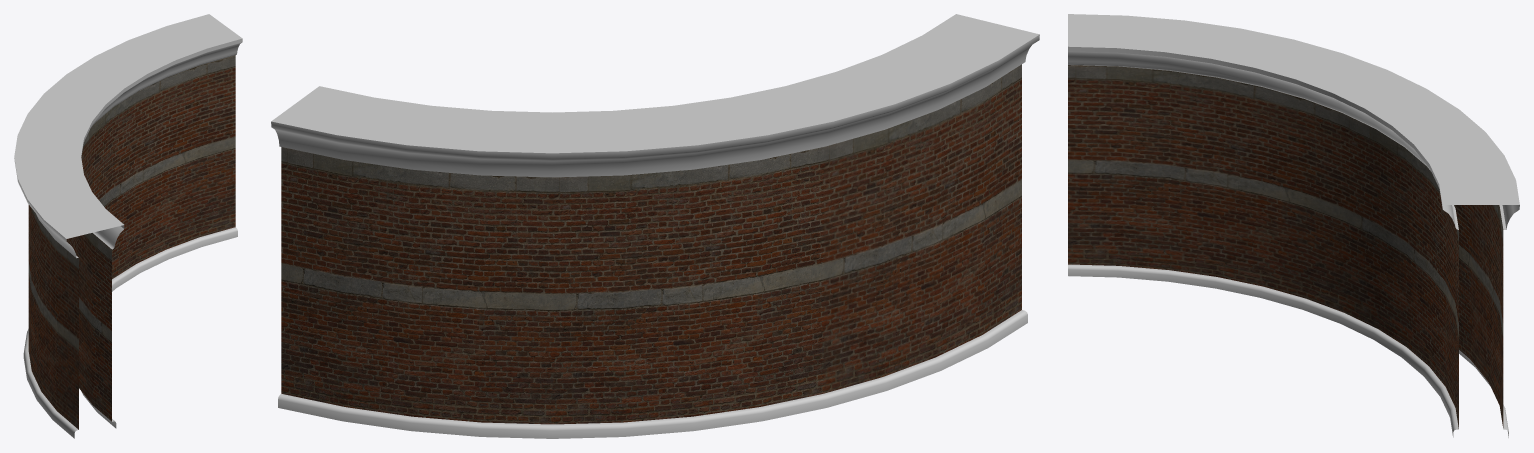
The model's file is msp_tunnel_wall_curve_outer.fbx.
3 views of the same model, side by side, from view 1: azimuth 30°, elevation 25°; view 2: azimuth 150°, elevation 25°; view 3: azimuth 270°, elevation 25° (orthographic). The views are drawn at different scales.
Parts seen in each view (by area): view 1: msp_tunnel_wall_curve_outer; view 2: msp_tunnel_wall_curve_outer; view 3: msp_tunnel_wall_curve_outer.
Part boxes in pixels (x1,y1,x2,y2): msp_tunnel_wall_curve_outer: (14, 14, 242, 438); msp_tunnel_wall_curve_outer: (271, 14, 1039, 438); msp_tunnel_wall_curve_outer: (1068, 14, 1519, 437).
Size of the model in its own units: 8.75 by 5 by 8.75.
